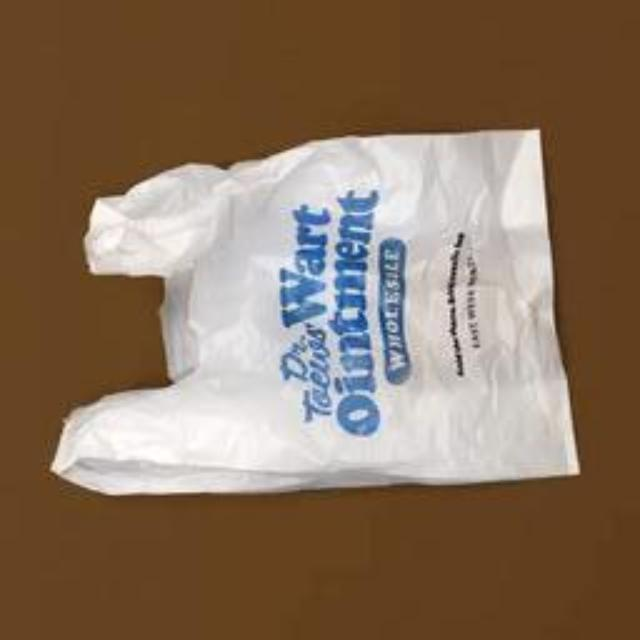Bolsa-de-nilon: (53, 112, 570, 518)
